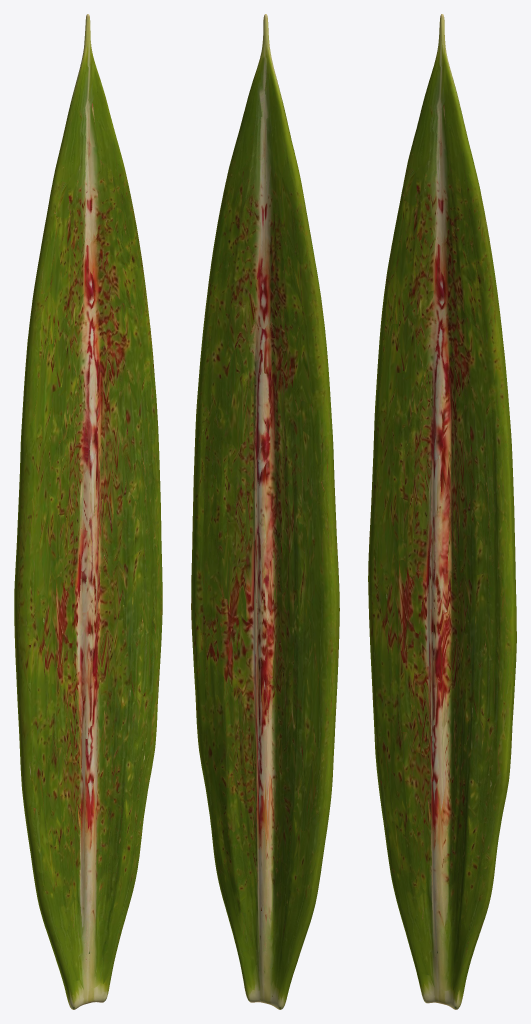
The model's file is sugarcane_rust.glb.
3 renders of one model, left to right at view 1: azimuth 30°, elevation 25°; view 2: azimuth 150°, elevation 25°; view 3: azimuth 330°, elevation 25°, orthographic.
Visible parts, largest first — view 1: sugarcane_rust; view 2: sugarcane_rust; view 3: sugarcane_rust.
Part boxes in pixels (box(x1,y1,x2,y2)): sugarcane_rust: box(14, 14, 162, 1009); sugarcane_rust: box(191, 14, 339, 1009); sugarcane_rust: box(368, 14, 516, 1009).
Bounding box in the file's own units: 0.1541 × 1 × 0.022.
Materials: 1 (1 with a texture image).
